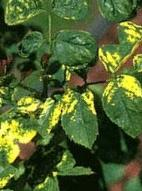Tomato leaf mosaic virus: (50, 83, 121, 153), (44, 17, 104, 78), (92, 71, 142, 142), (2, 0, 49, 42), (41, 0, 87, 32), (13, 25, 50, 64), (0, 73, 9, 122)
